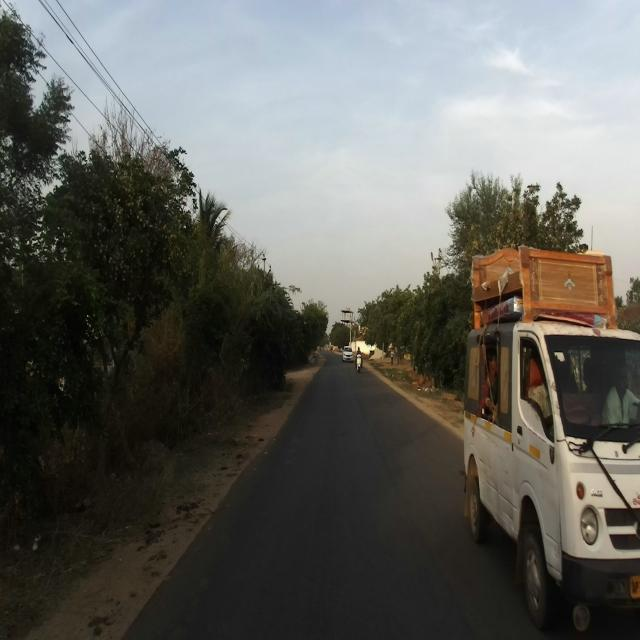scooter: (356, 351, 362, 373)
truck: (458, 319, 640, 631)
